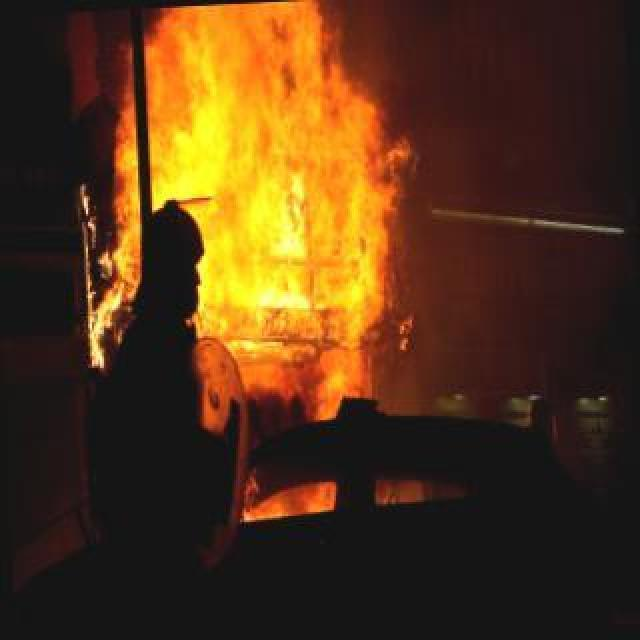Fire: (93, 1, 404, 416)
